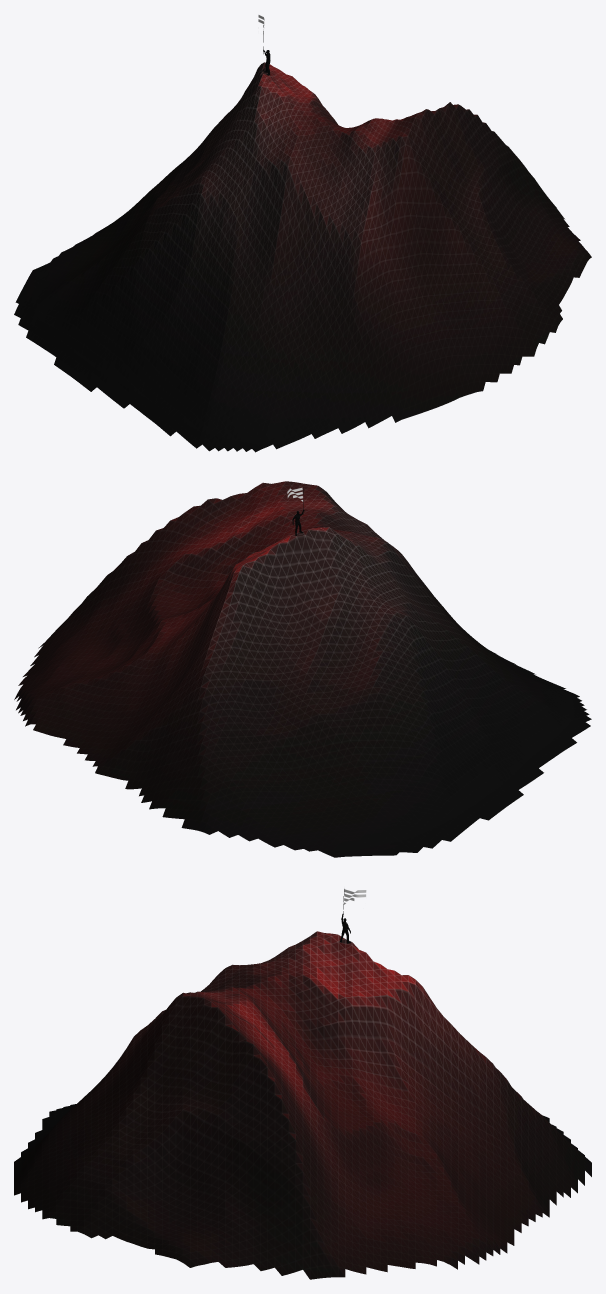
The model's file is hills_11.glb.
3 renders of one model, top to bottom at view 1: azimuth 30°, elevation 25°; view 2: azimuth 150°, elevation 25°; view 3: azimuth 270°, elevation 25°, orthographic. The views are drawn at different scales.
Visible parts, largest first — view 1: Landscape; view 2: Landscape; view 3: Landscape.
Boxes of the visible parts, box(x1,y1,x2,y2) form: Landscape: box(14, 62, 591, 452); Landscape: box(14, 481, 591, 857); Landscape: box(14, 931, 591, 1279).
Bounding box in the file's own units: 492 × 292 × 492.
Materials: 3 (2 with a texture image).
